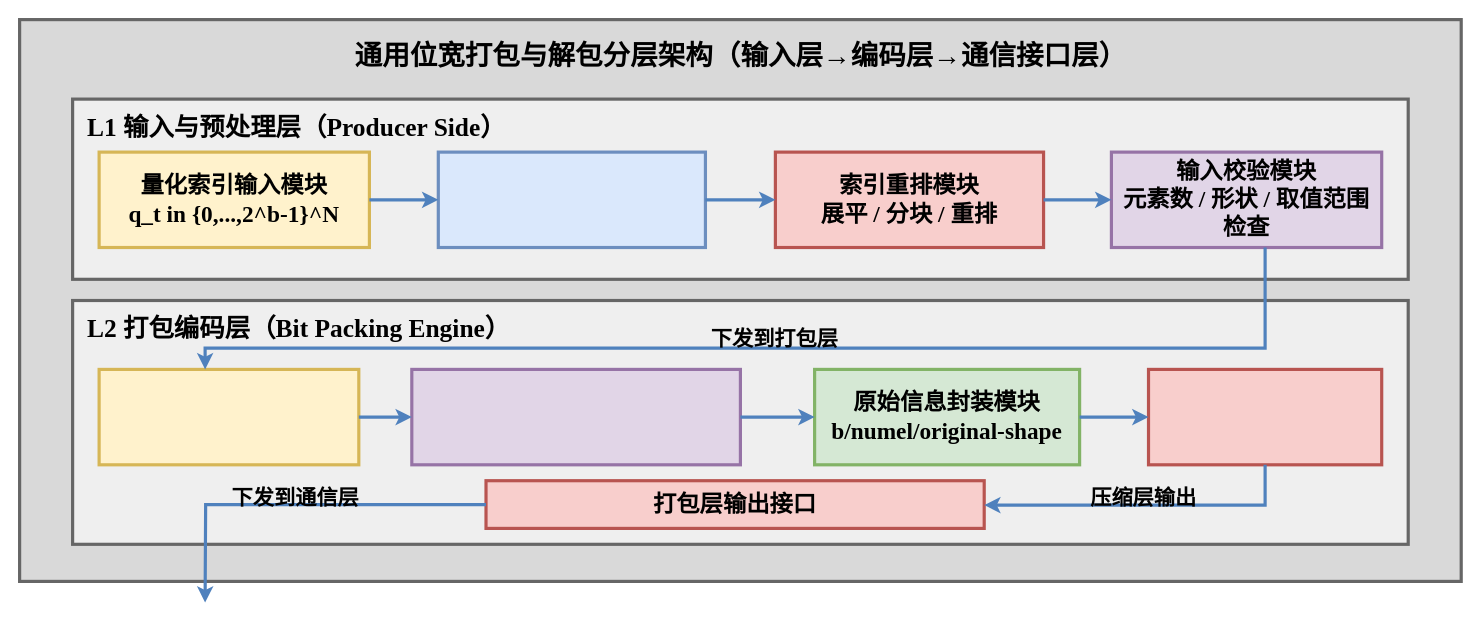
Some shapes in this 1481 by 631 pixel diagram are drawn without their labels. The centre of each missing label's shape, as x and y in pixels:
"位宽配置模块 b in {1,2,4,8,16}" goes at [571,199].
"压缩输出模块 uint8 buffer + metadata" goes at [1264,416].
"字节对齐模块 padding 到 8 的倍数" goes at [228,416].
"字节编码模块 PackedByte = Σ bit_i*2^(7-i)" goes at [575,416].
